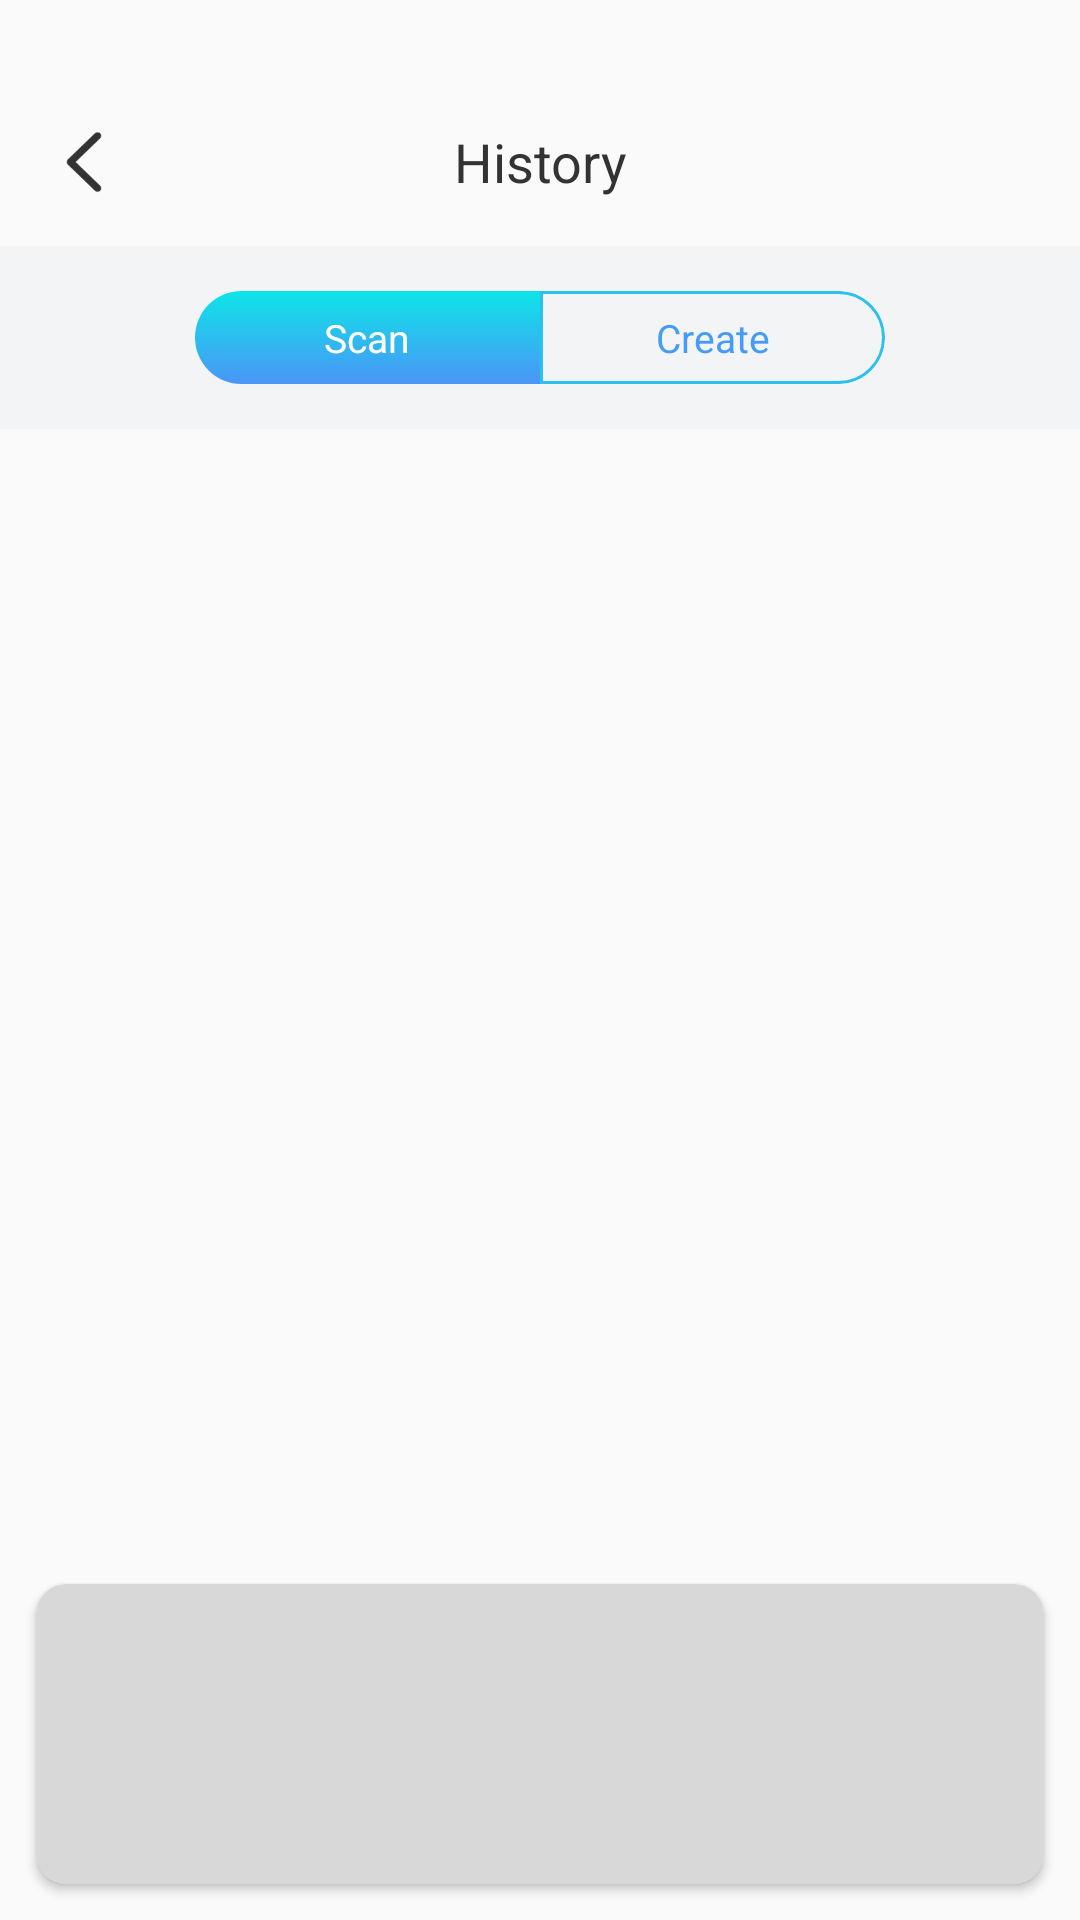

Where icons sit on this 1080 x 1920 app screen, as Rect(x1, y1, x2, y2):
back: Rect(66, 132, 102, 192)
